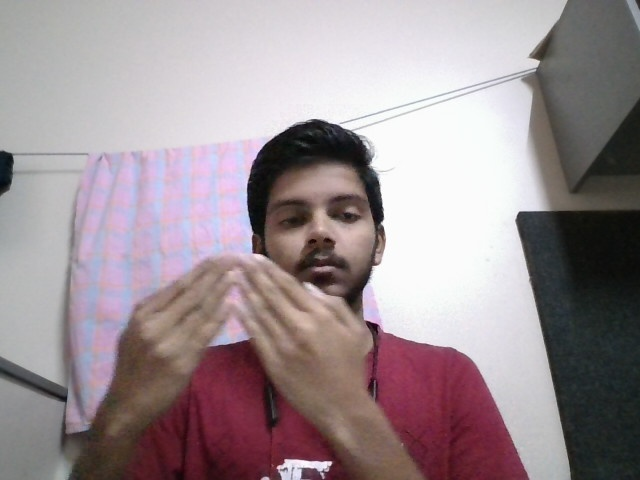Thank You: (95, 250, 374, 404)
